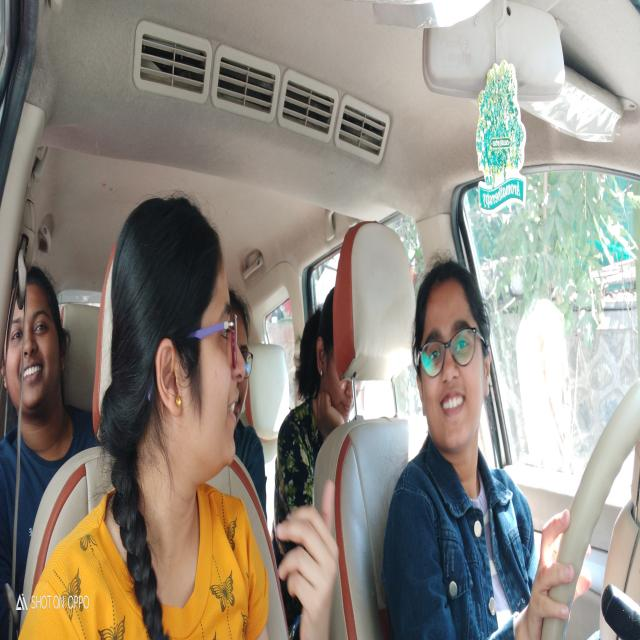LeftRight: (414, 256, 494, 454)
person: (133, 177, 244, 483), (8, 296, 64, 423), (300, 293, 352, 412), (238, 302, 256, 419)
talking: (438, 387, 469, 417), (227, 400, 242, 420)
